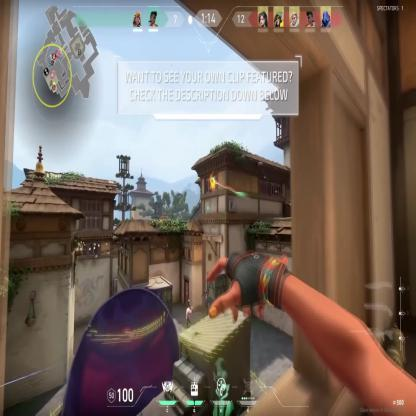enemy: (204, 290, 209, 310)
enemy_head: (206, 289, 208, 293)
